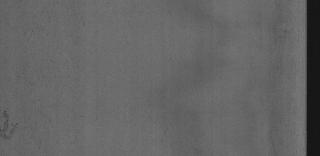silk spot: (28, 23, 104, 132)
water spot: (0, 102, 28, 150)
